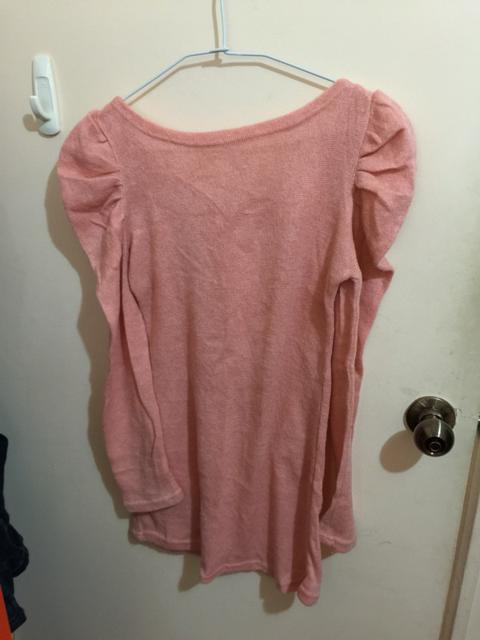Tops: (60, 79, 413, 594)
